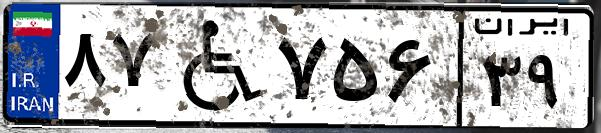3: (475, 38, 525, 113)
5: (330, 28, 385, 110)
6: (385, 28, 445, 110)
7: (270, 28, 330, 110), (110, 28, 158, 98)
8: (57, 26, 110, 100)
9: (525, 38, 570, 115)
ژ (معلولین و جانبازان): (158, 12, 270, 120)
